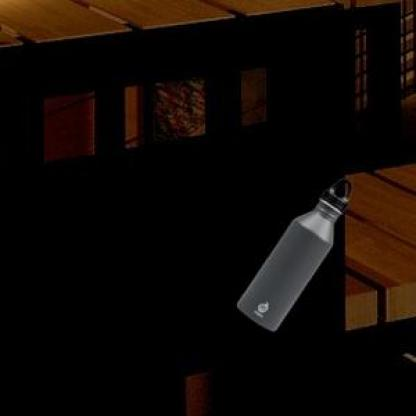bottle: (234, 176, 354, 334)
